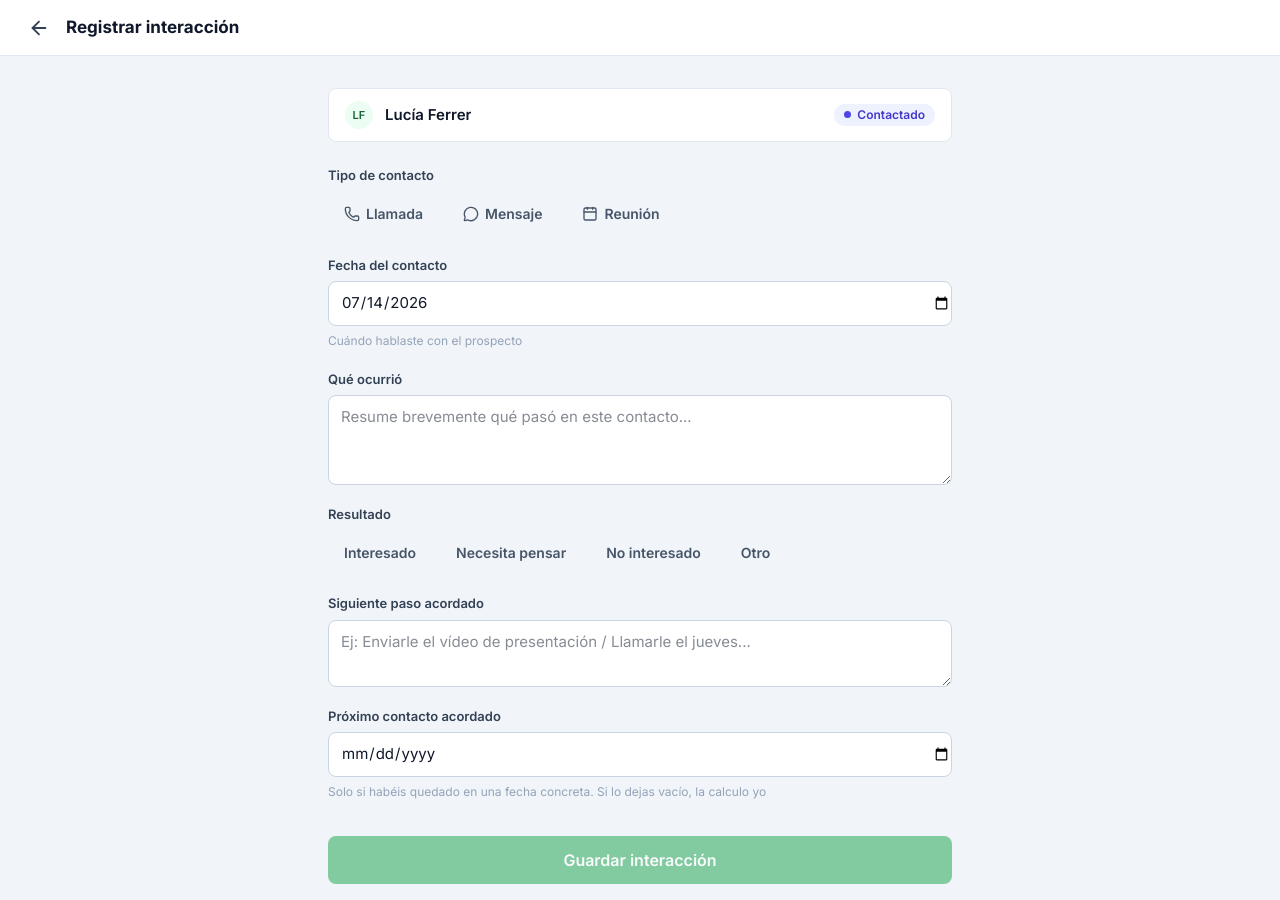
Test: contexto del prospecto y estados (JOS-16) › Guardar deshabilitado hasta completar tipo + qué ocurrió + resultado (estados de JOS-61)
This screenshot has width=1280, height=900.
Check: the button "Guardar interacción" is disabled, box [328,836,952,884]
Click the radio button labelled "Llamada": point(384, 214) [328,192,439,236]
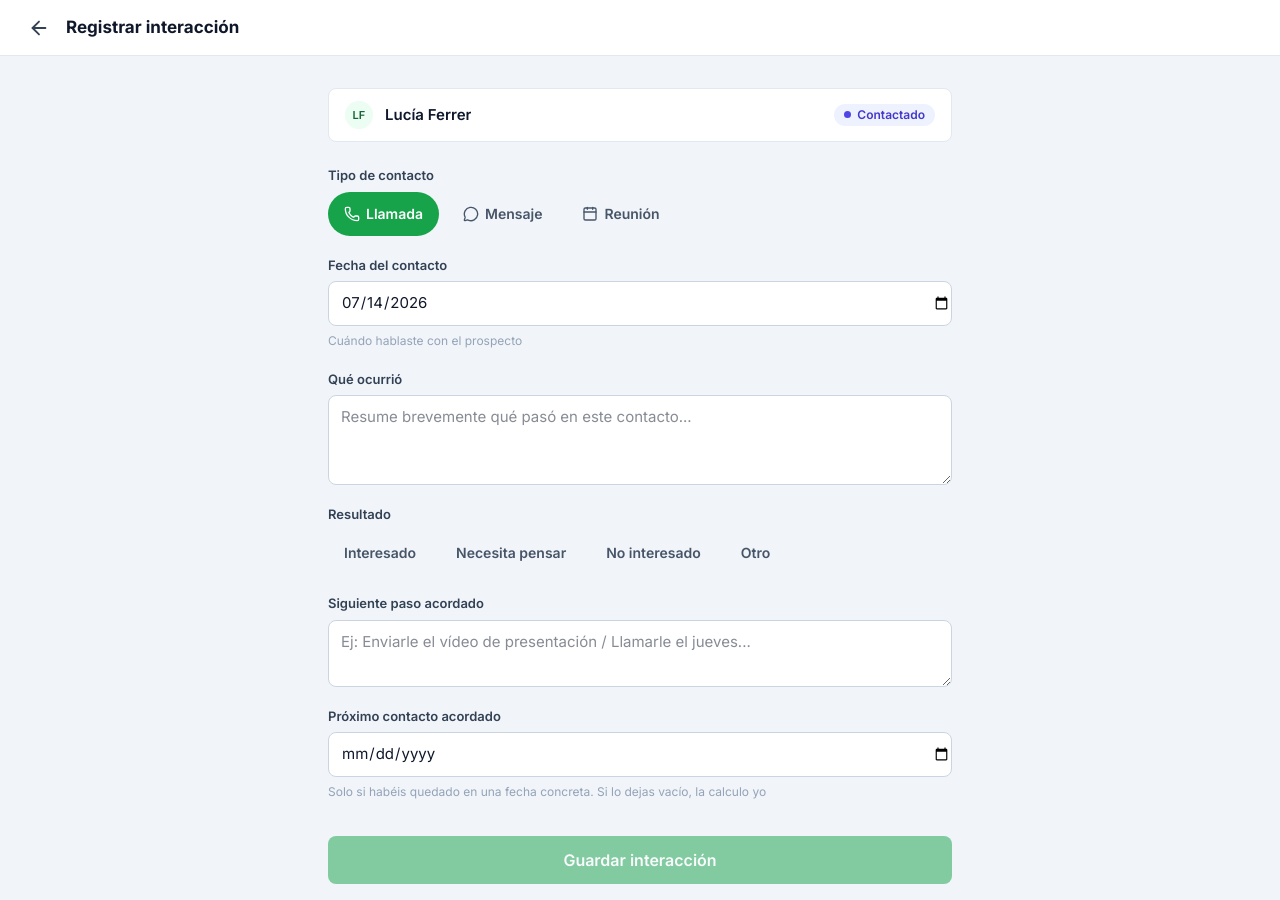
Check: the button "Guardar interacción" is disabled, box [328,836,952,884]
In the text box labelled "Qué ocurrió": point(640, 440) [328,395,952,484], type "Le llamé"
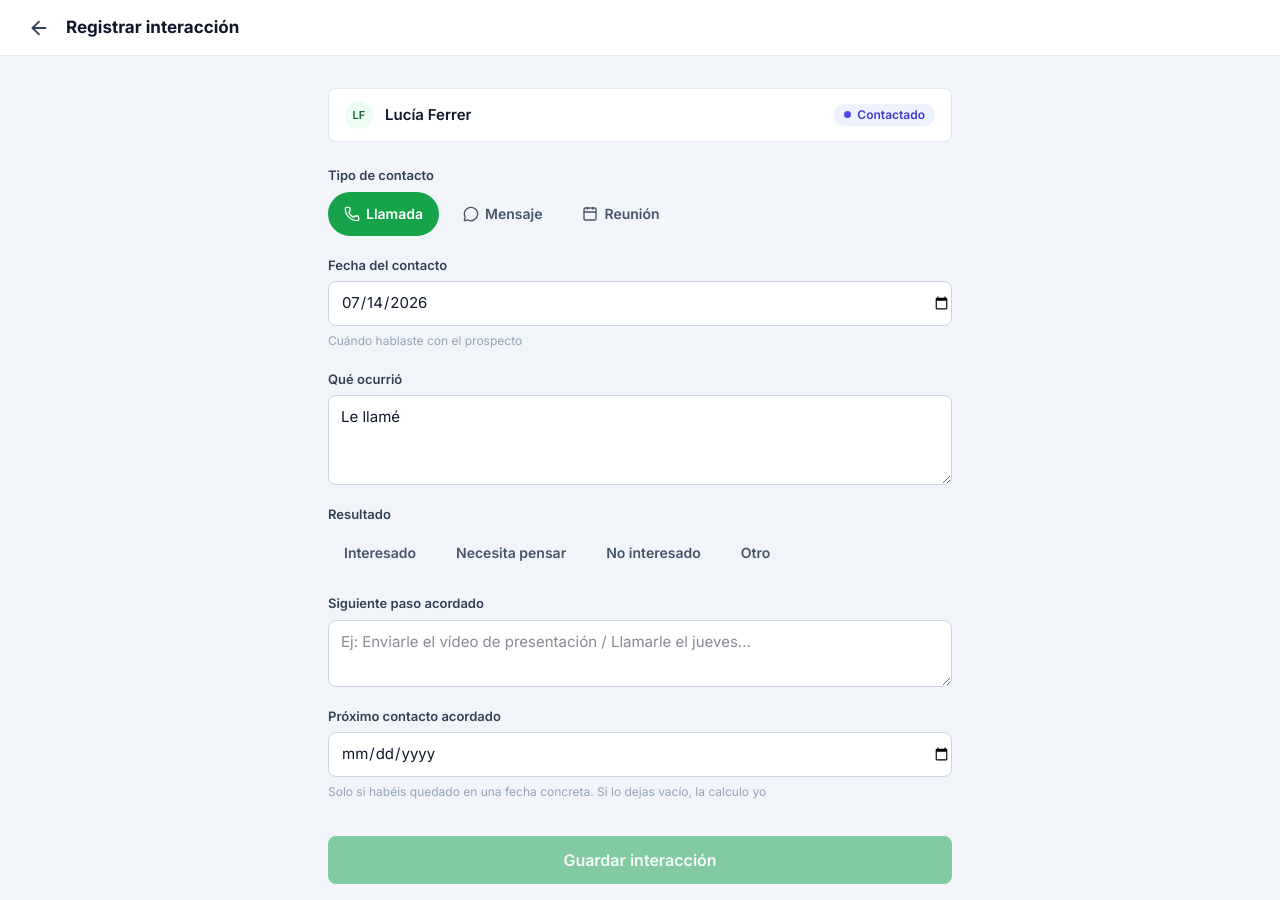
Check: the button "Guardar interacción" is disabled, box [328,836,952,884]
Click the radio button labelled "Interesado": point(380, 552) [328,530,432,574]
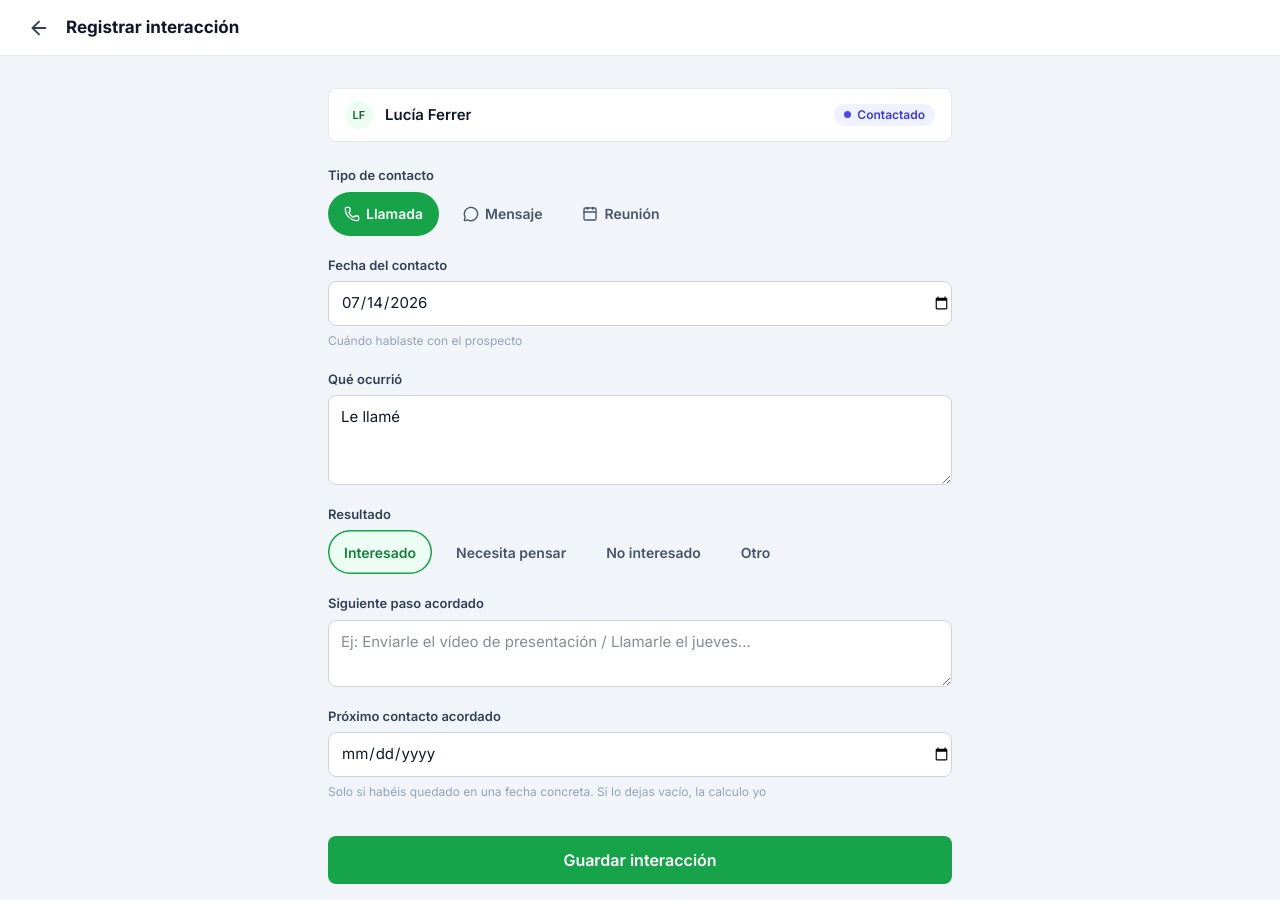
Check: the button "Guardar interacción" is enabled, box [328,836,952,884]
